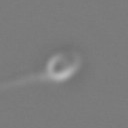normal: (1, 72, 47, 97)
